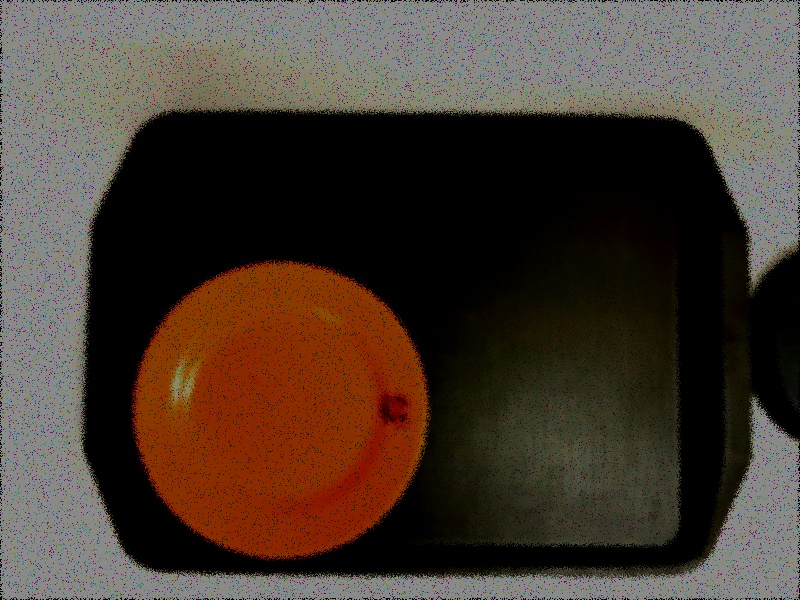dish10: (129, 252, 435, 560)
